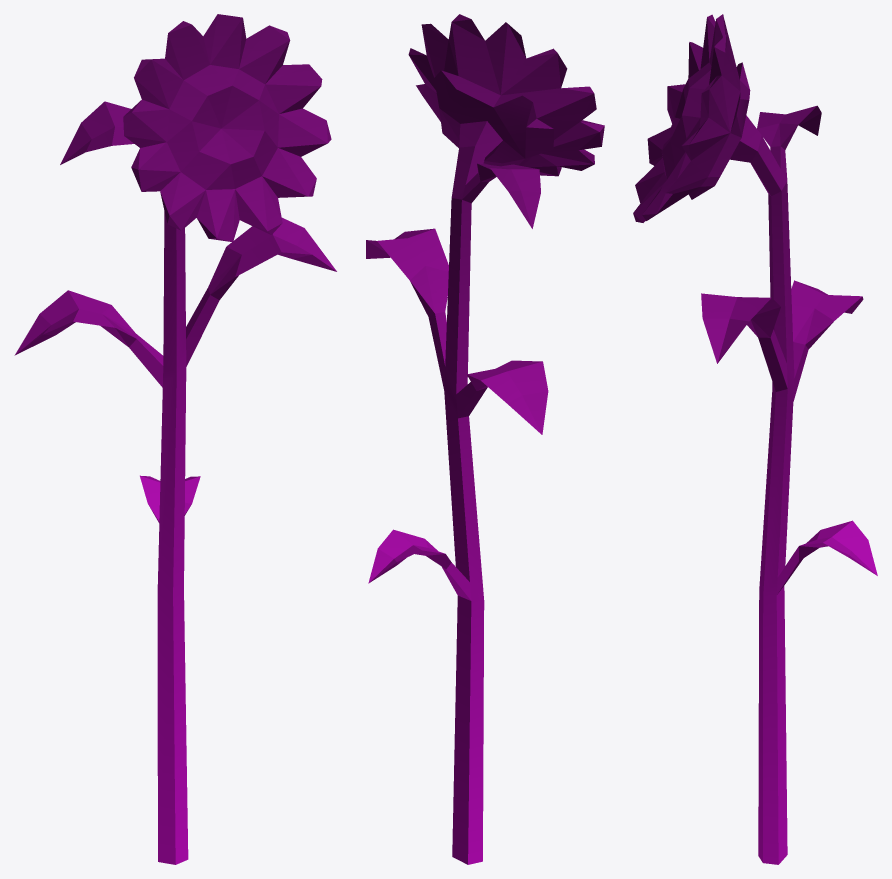
The model's file is SM_Prop_Sunflower_01.fbx.
The picture shows the model from 3 angles, left to right: view 1: azimuth 30°, elevation 25°; view 2: azimuth 150°, elevation 25°; view 3: azimuth 270°, elevation 25°; orthographic projection. The views are drawn at different scales.
Visible parts, largest first — view 1: SM_Prop_Sunflower_01; view 2: SM_Prop_Sunflower_01; view 3: SM_Prop_Sunflower_01.
Boxes of the visible parts, x1,y1,x2,y2 form: SM_Prop_Sunflower_01: (14, 14, 336, 864); SM_Prop_Sunflower_01: (366, 14, 604, 864); SM_Prop_Sunflower_01: (633, 14, 877, 864).
Bounding box in the file's own units: 39.81 × 129 × 34.16.
